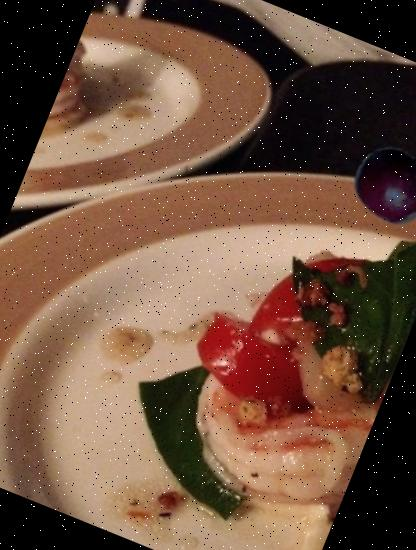Plum: (340, 134, 416, 239)
